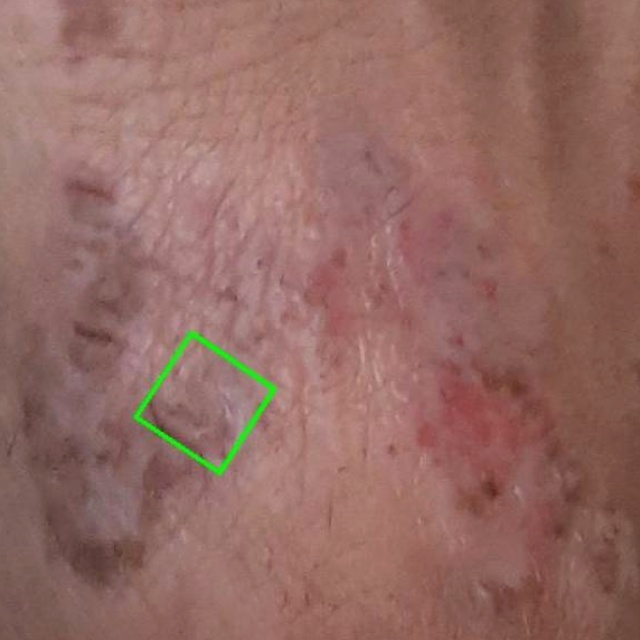Contact Dermatitis: (136, 334, 275, 473)
